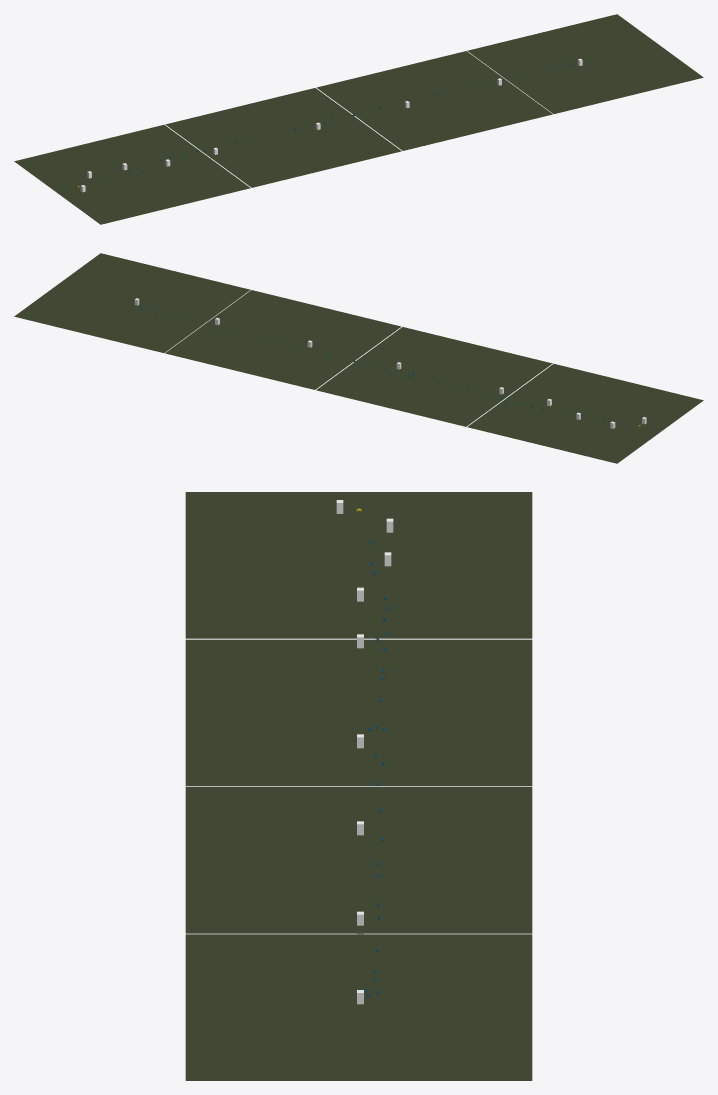
File: Level 01.gltf
3 views of the same model, one above another, from view 1: azimuth 30°, elevation 25°; view 2: azimuth 150°, elevation 25°; view 3: azimuth 270°, elevation 25° (orthographic). The views are drawn at different scales.
Parts seen in each view (by area): view 1: Ground4, Ground3, Ground2, Ground; view 2: Ground4, Ground2, Ground3, Ground; view 3: Ground2, Ground4, Ground3, Ground.
Part boxes in pixels (x1,y1,x2,y2): Ground4: (467,14,703,113); Ground3: (316,51,552,150); Ground2: (165,88,401,187); Ground: (14,125,250,224); Ground4: (14,253,250,352); Ground2: (316,327,552,426); Ground3: (165,290,401,389); Ground: (467,364,703,463); Ground2: (185,639,532,786); Ground4: (185,934,532,1080); Ground3: (185,787,532,933); Ground: (185,492,532,638).
Bounding box in the file's own units: 201 × 3.48 × 50.
12 materials, 1 textured.
